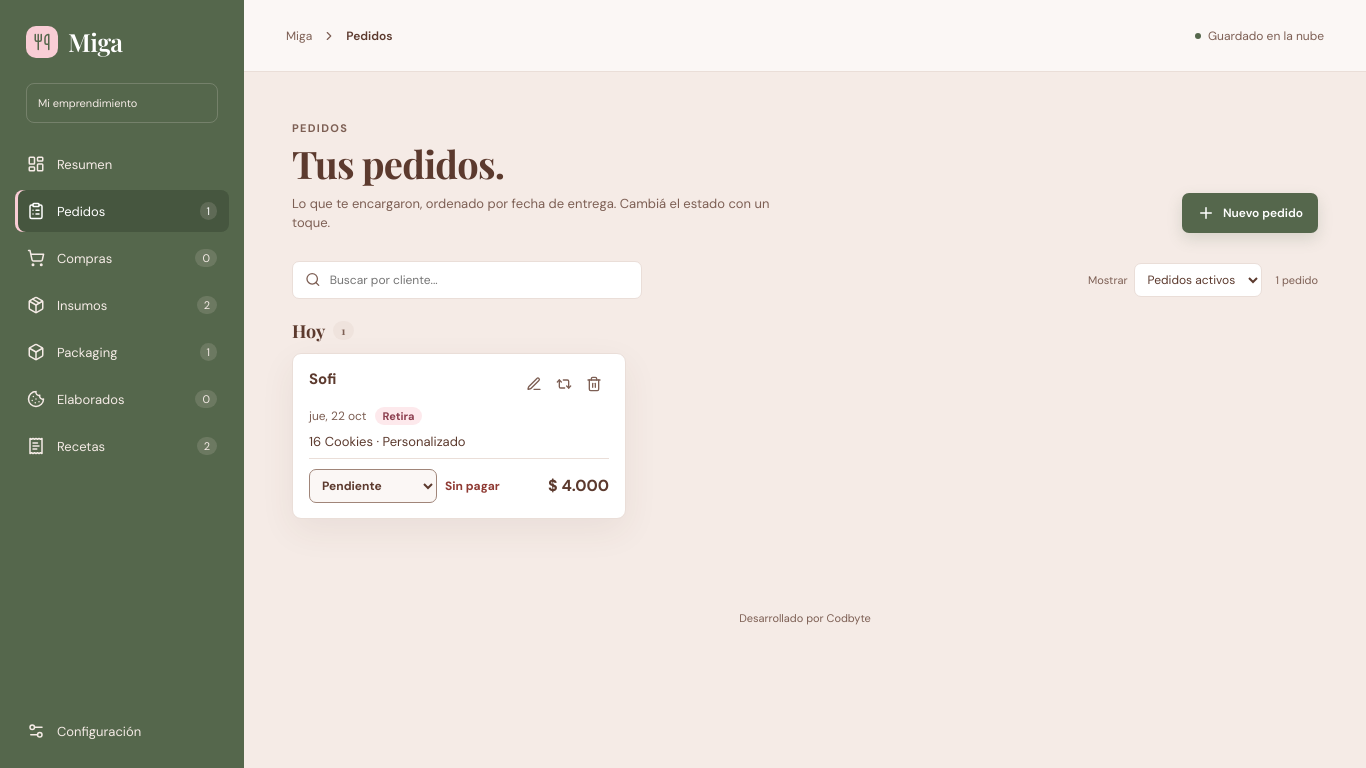
Test: Orders › edits a fixed design fee and removes the customization
Click the button named "Editar" at coordinates (534, 384), box [519,369,549,399]
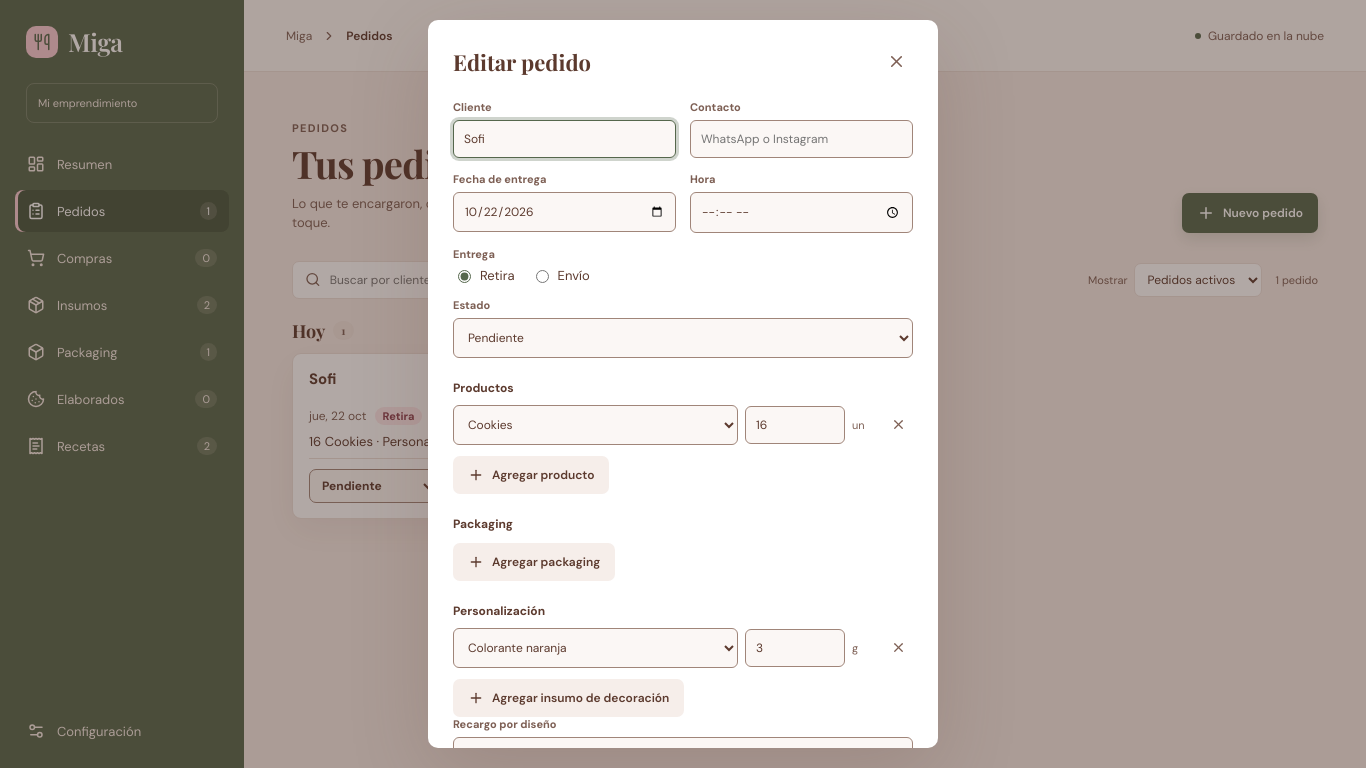
expect the number field named "Cantidad de decoración 1" holds "3": met, box [745,629,845,667]
expect the dropdown named "Insumo de decoración 1" shows "Colorante naranja": met, box [453,628,738,668]
Click the button named "Quitar insumo de decoración 1" at coordinates (898, 648), box [884,633,913,662]
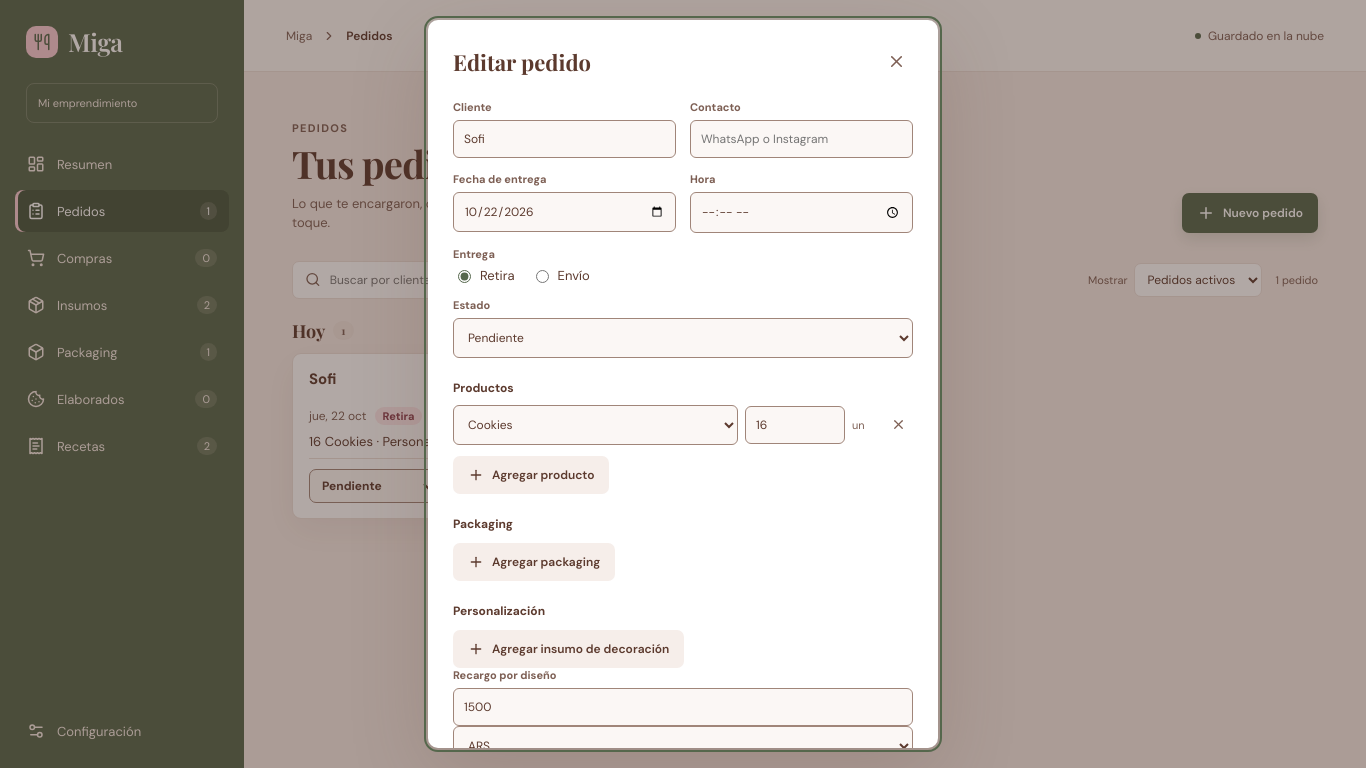
Clear the number field labelled "Recargo por diseño" at coordinates (683, 707), box [453,688,913,726]
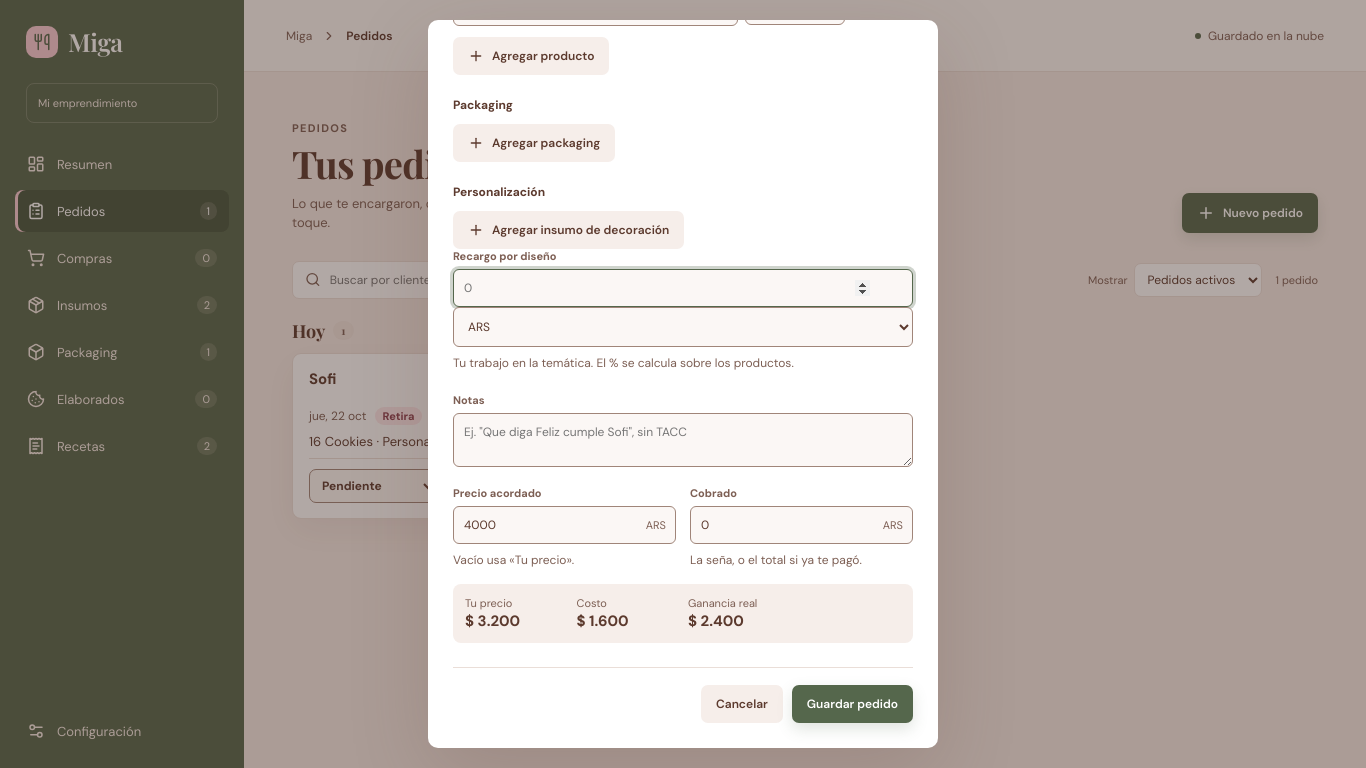
Click the button "Guardar pedido" at coordinates (852, 704), box [792,685,913,723]
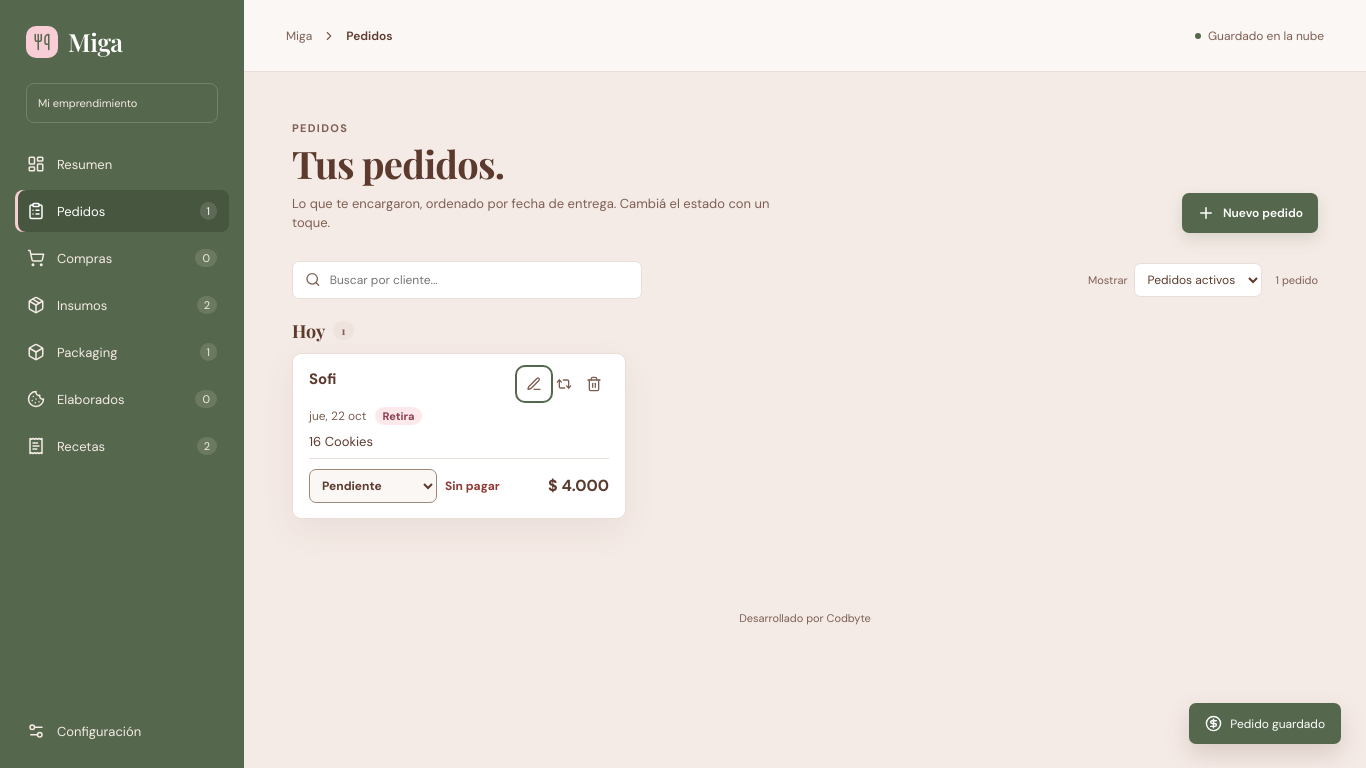
expect the text "Personalizado" is gone: met
